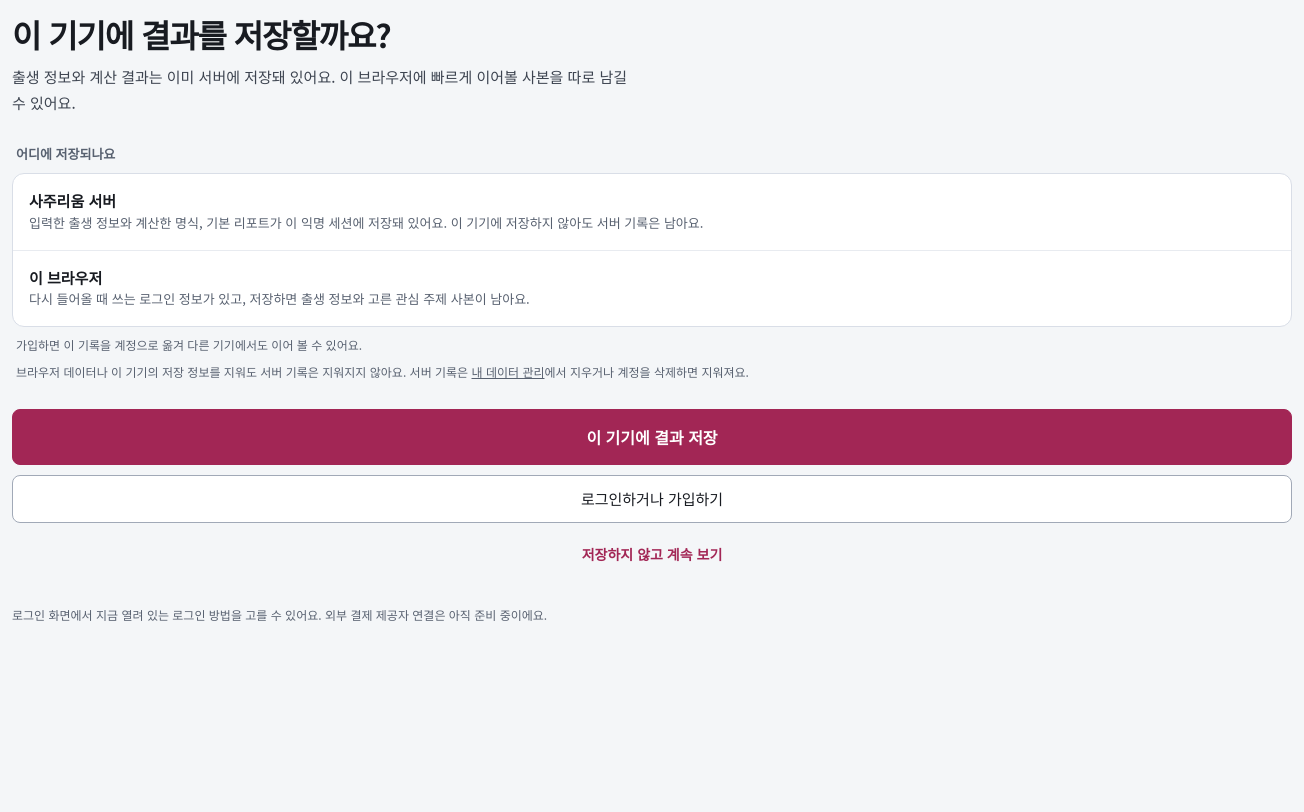
Test: save screen storage copy › keeps the same distinction after saving a browser copy
Click the button "이 기기에 결과 저장" at [652, 437], box [12,409,1292,465]
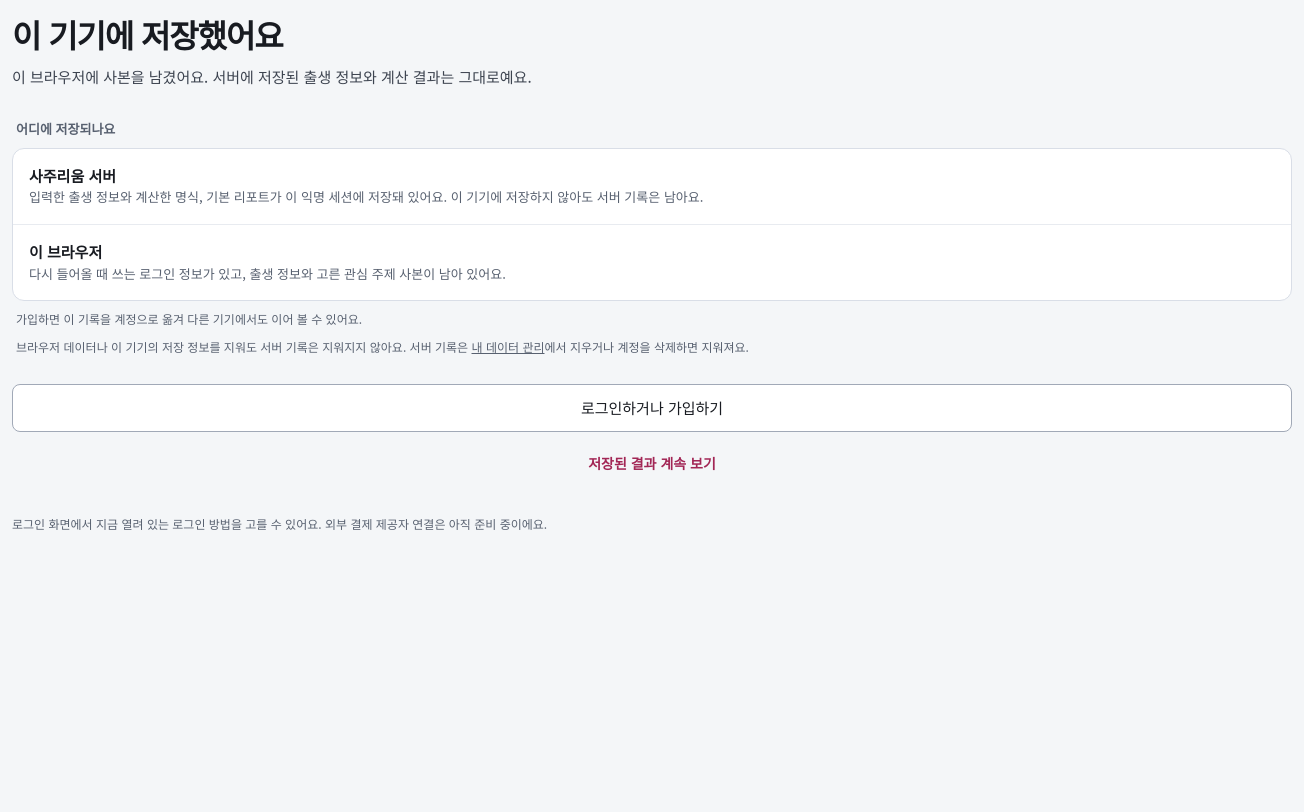
Check: the heading "이 기기에 저장했어요" is shown, box [12,11,283,57]
Check: the message shows "서버에 저장된 출생 정보와 계산 결과는 그대로예요", box [12,66,532,87]
Check: the text "다시 들어올 때 쓰는 로그인 정보가 있고, 출생 정보와 고른 관심 주제 사본이 남아 있어요." is shown, box [29,264,506,282]
